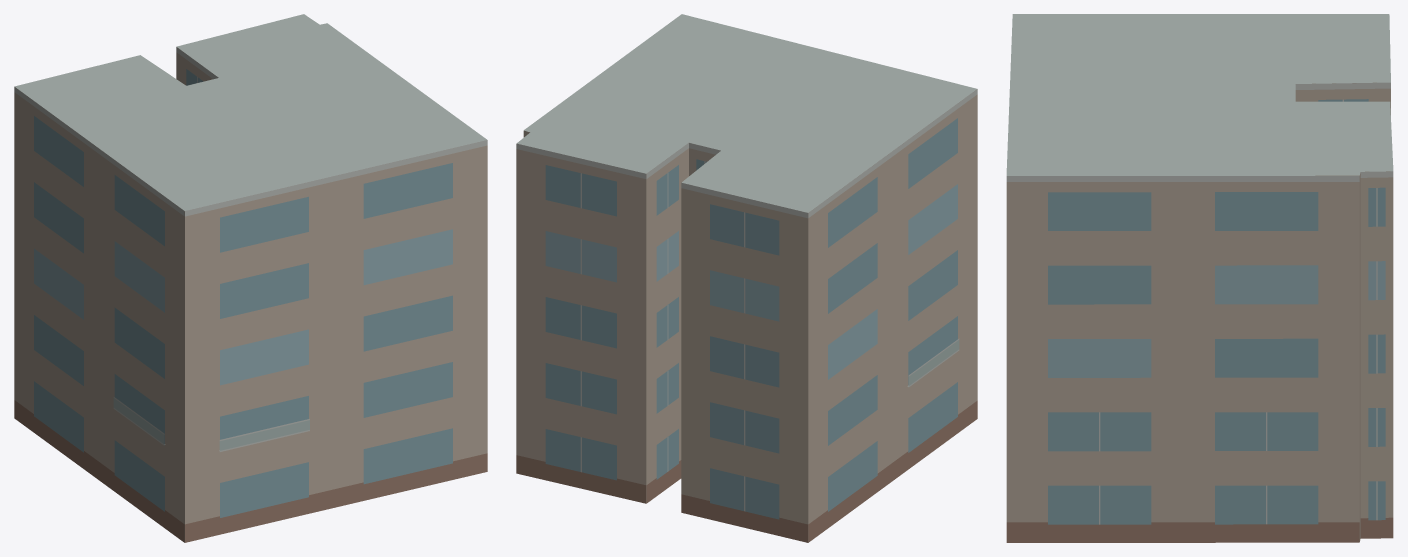
The model's file is survey-upis-32559530.glb.
The picture shows the model from 3 angles, left to right: view 1: azimuth 30°, elevation 25°; view 2: azimuth 150°, elevation 25°; view 3: azimuth 270°, elevation 25°; orthographic projection. The views are drawn at different scales.
Visible parts, largest first — view 1: survey-upis-32559530.tmp; view 2: survey-upis-32559530.tmp; view 3: survey-upis-32559530.tmp.
Part boxes in pixels (x1,y1,x2,y2): survey-upis-32559530.tmp: (14, 14, 487, 542); survey-upis-32559530.tmp: (516, 14, 977, 542); survey-upis-32559530.tmp: (1006, 14, 1393, 542).
Size of the model in its own units: 14.01 by 14.75 by 14.11.
